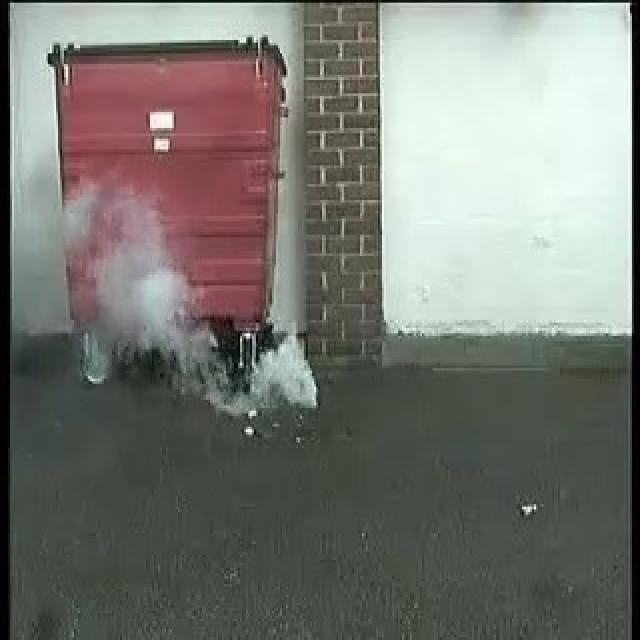smoke: (88, 242, 319, 404)
